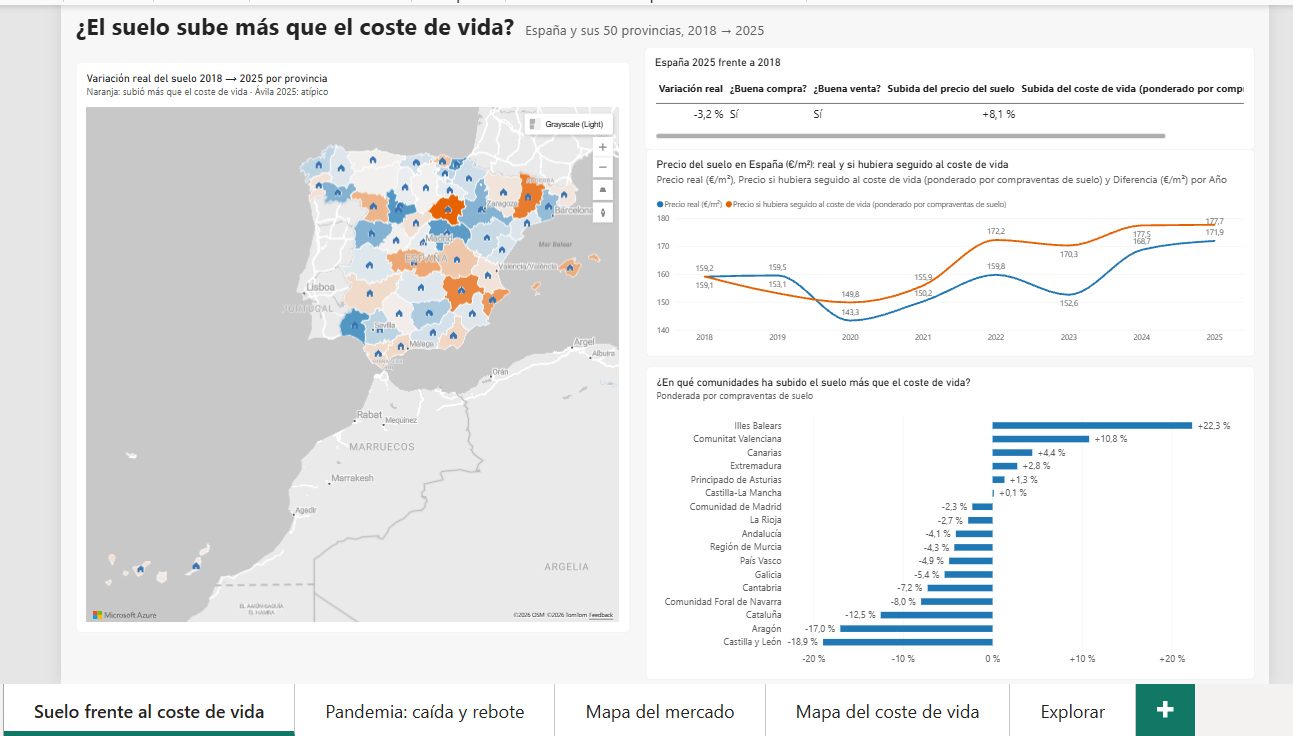

This screenshot's page, from the dashboard's own definition file:
{"tool":"powerbi","page":{"name":"Suelo frente al coste de vida","canvas":[1920,1080],"ordinal":0},"visuals":[{"type":"textbox","box":[24,8,1500,88],"z":0},{"type":"slicer","fields":{"Values":["MART_SUELO_VS_IPC.ANIO"]},"box":[1507.9,7.2,386.5,97.8],"z":1000},{"type":"azureMap","fields":{"Category":["MART_SUELO_VS_IPC.PAIS","MART_SUELO_VS_IPC.TERRITORIO"]},"box":[0,105,947.2,952],"z":2000},{"type":"multiRowCard","fields":{"Values":["Medidas.C1 Variación real","Medidas.C1 Buena Compra","Medidas.C1 Buena Venta","Medidas.C1 Subida del precio","Medidas.C1 Subida del coste de vida"]},"box":[947.2,105,949.6,155.1],"z":3000},{"type":"lineChart","fields":{"Category":["MART_SUELO_VS_IPC.ANIO"],"Y":["Medidas.C1 Precio medio","Medidas.C1 Precio si hubiera seguido al coste de vida"]},"box":[947.2,260.1,949.6,322.1],"z":4000},{"type":"clusteredBarChart","fields":{"Category":["MART_SUELO_VS_IPC.TERRITORIO"],"Y":["Medidas.C1 Variación real"]},"box":[947.2,582.2,949.6,474.8],"z":5000}]}

Visuals, with their boxes on the page's 1920x1080 design canvas (x1, y1, x2, y2). These are canvas units, not pixel positions in the 1293x736 screenshot, which may show the page scaled, cropped or inside an application window:
textbox: [left=24, top=8, right=1524, bottom=96]
slicer - MART_SUELO_VS_IPC.ANIO: [left=1508, top=7, right=1894, bottom=105]
azureMap - MART_SUELO_VS_IPC.PAIS x MART_SUELO_VS_IPC.TERRITORIO: [left=0, top=105, right=947, bottom=1057]
multiRowCard - Medidas.C1 Variación real x Medidas.C1 Buena Compra: [left=947, top=105, right=1897, bottom=260]
lineChart - MART_SUELO_VS_IPC.ANIO x Medidas.C1 Precio medio: [left=947, top=260, right=1897, bottom=582]
clusteredBarChart - MART_SUELO_VS_IPC.TERRITORIO x Medidas.C1 Variación real: [left=947, top=582, right=1897, bottom=1057]
